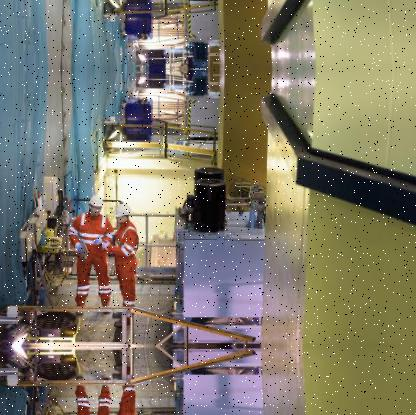helmet: (87, 193, 107, 217), (116, 200, 131, 224)
